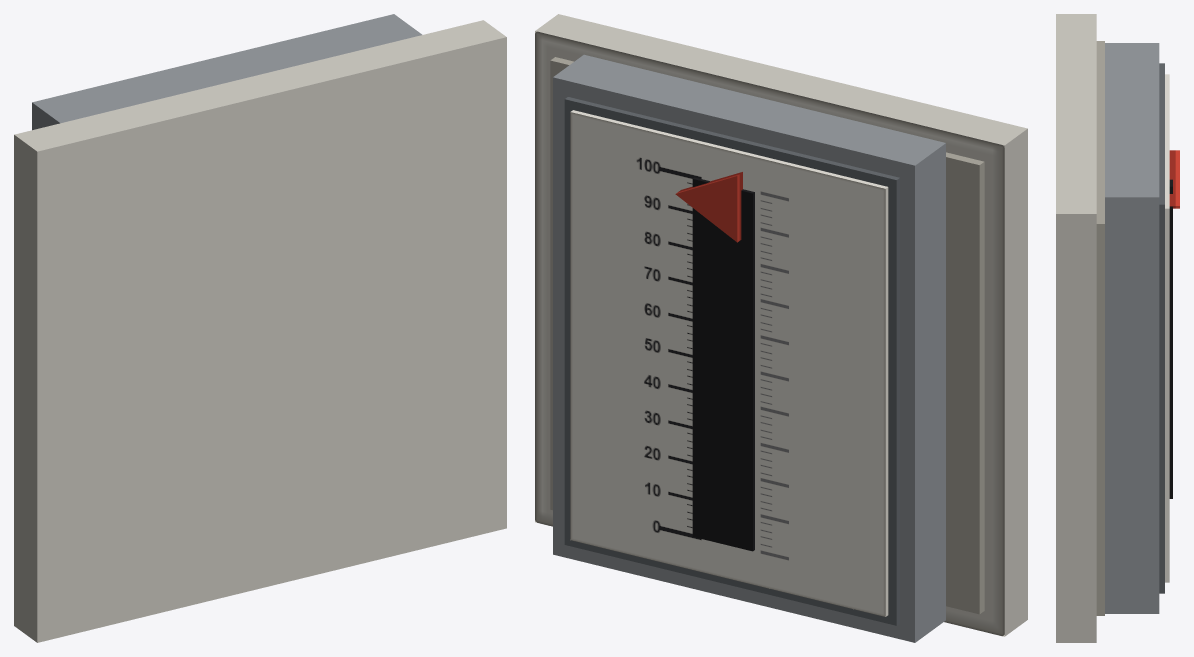
The model's file is gauge_100.obj.
The picture shows the model from 3 angles, left to right: view 1: azimuth 30°, elevation 25°; view 2: azimuth 150°, elevation 25°; view 3: azimuth 270°, elevation 25°; orthographic projection. The views are drawn at different scales.
Visible parts, largest first — view 1: Panel, Frame; view 2: Face, Panel, Frame, Needle; view 3: Frame, Panel, Face, Needle.
Boxes of the visible parts, x1,y1,x2,y2 form: Panel: [14, 20, 506, 642]; Frame: [32, 14, 422, 130]; Face: [570, 110, 888, 616]; Panel: [535, 14, 1027, 636]; Frame: [553, 54, 945, 642]; Needle: [675, 172, 742, 242]; Frame: [1105, 43, 1164, 613]; Panel: [1056, 14, 1104, 642]; Face: [1165, 74, 1172, 582]; Needle: [1169, 150, 1179, 208].
Bounding box in the file's own units: 0.875 × 0.875 × 0.2288.
1 material, 1 textured.
